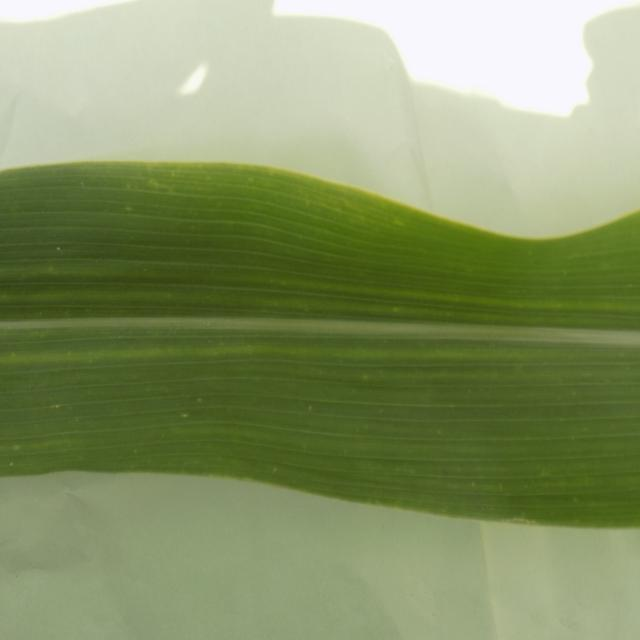millet_healthy: (1, 155, 640, 535)
